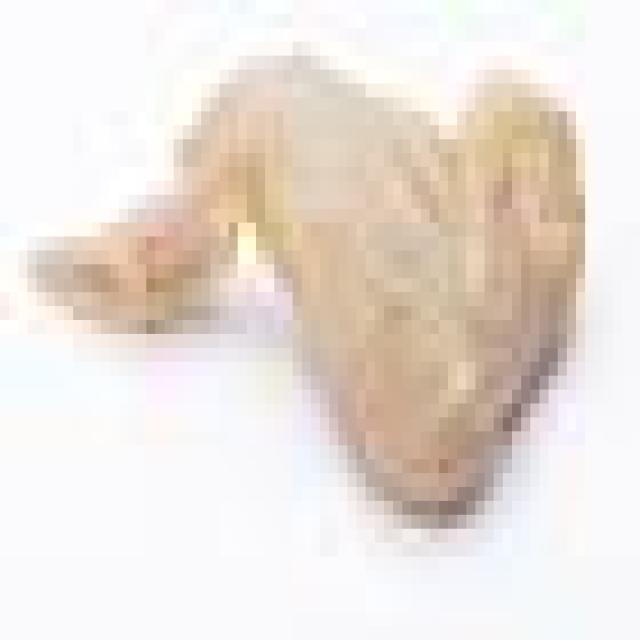wing: (22, 25, 598, 557)
